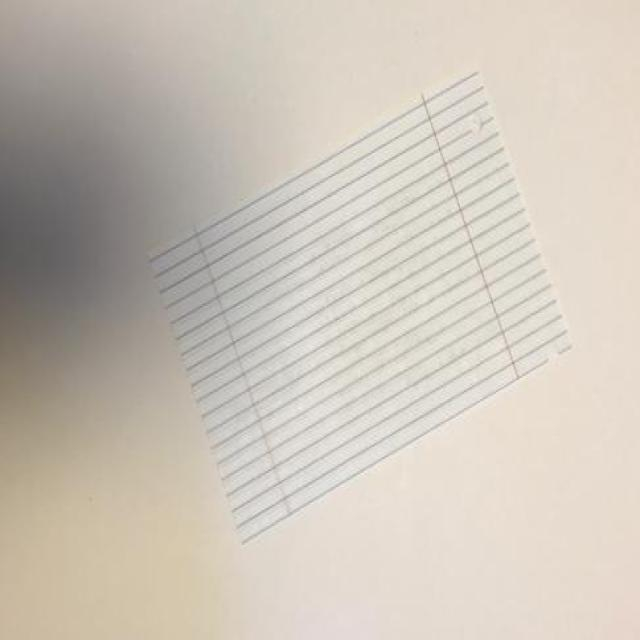kertas: (141, 60, 575, 548)
